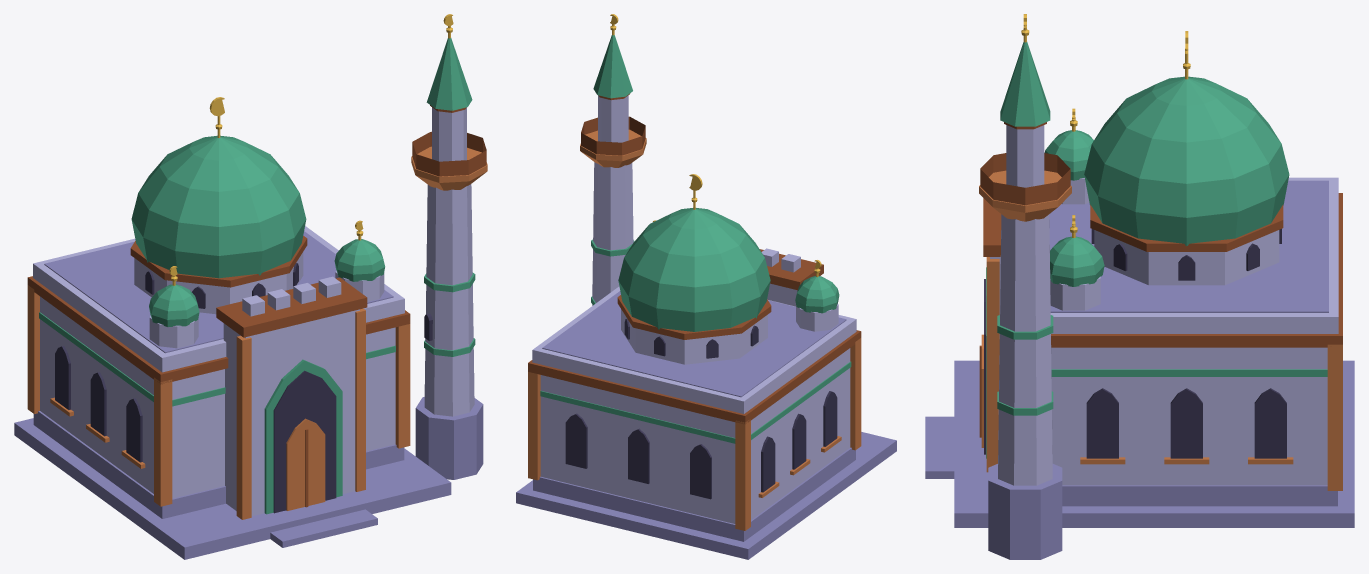
File: mosque.glb
The picture shows the model from 3 angles, left to right: view 1: azimuth 30°, elevation 25°; view 2: azimuth 150°, elevation 25°; view 3: azimuth 270°, elevation 25°; orthographic projection. The views are drawn at different scales.
Parts seen in each view (by area): view 1: Mosque; view 2: Mosque; view 3: Mosque.
Part boxes in pixels (bbox=[...]): Mosque: bbox=[14, 14, 487, 559]; Mosque: bbox=[516, 14, 896, 559]; Mosque: bbox=[925, 14, 1354, 559].
Size of the model in its own units: 6.92 by 9.05 by 6.65.
